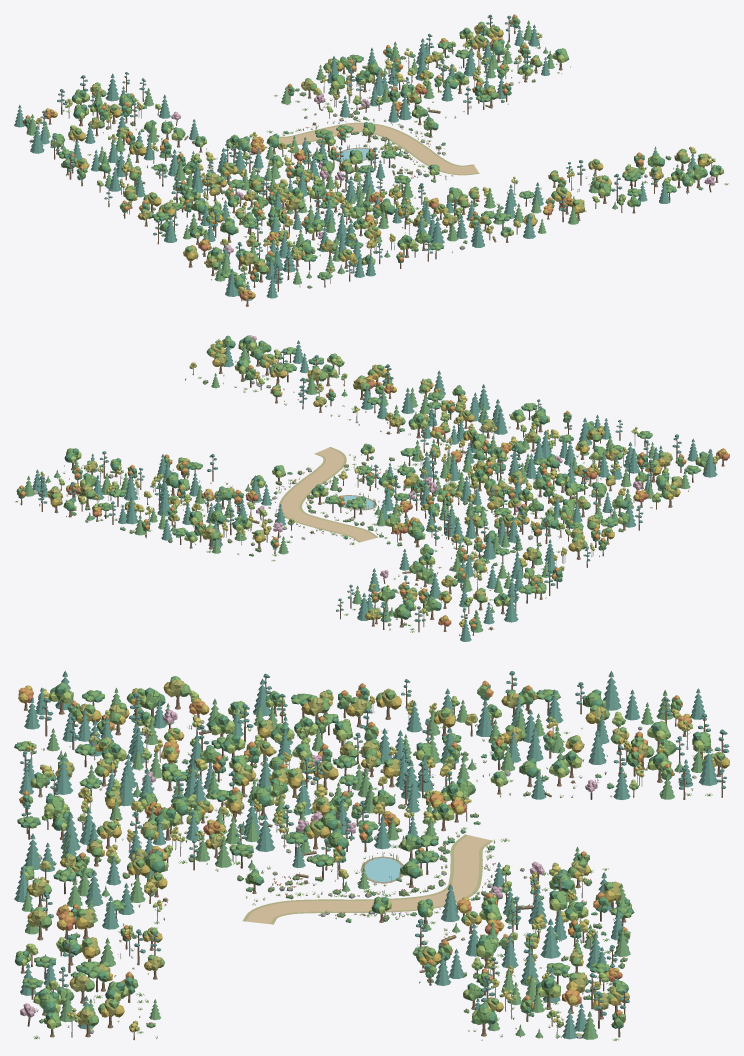
The model's file is bosque.glb.
3 renders of one model, top to bottom at view 1: azimuth 30°, elevation 25°; view 2: azimuth 150°, elevation 25°; view 3: azimuth 270°, elevation 25°, orthographic. The views are drawn at different scales.
Parts seen in each view (by area): view 1: camino_camino, camino_camino_borde; view 2: camino_camino, camino_camino_borde; view 3: camino_camino, camino_camino_borde, laguna_agua.
Part boxes in pixels (left/top/right/bottom): camino_camino: left=278, top=123, right=478, bottom=174; camino_camino_borde: left=279, top=122, right=479, bottom=175; camino_camino: left=281, top=447, right=375, bottom=541; camino_camino_borde: left=278, top=447, right=378, bottom=542; camino_camino: left=246, top=835, right=489, bottom=924; camino_camino_borde: left=242, top=834, right=492, bottom=924; laguna_agua: left=364, top=858, right=401, bottom=882.
Size of the model in its own units: 167 by 9.34 by 149.
